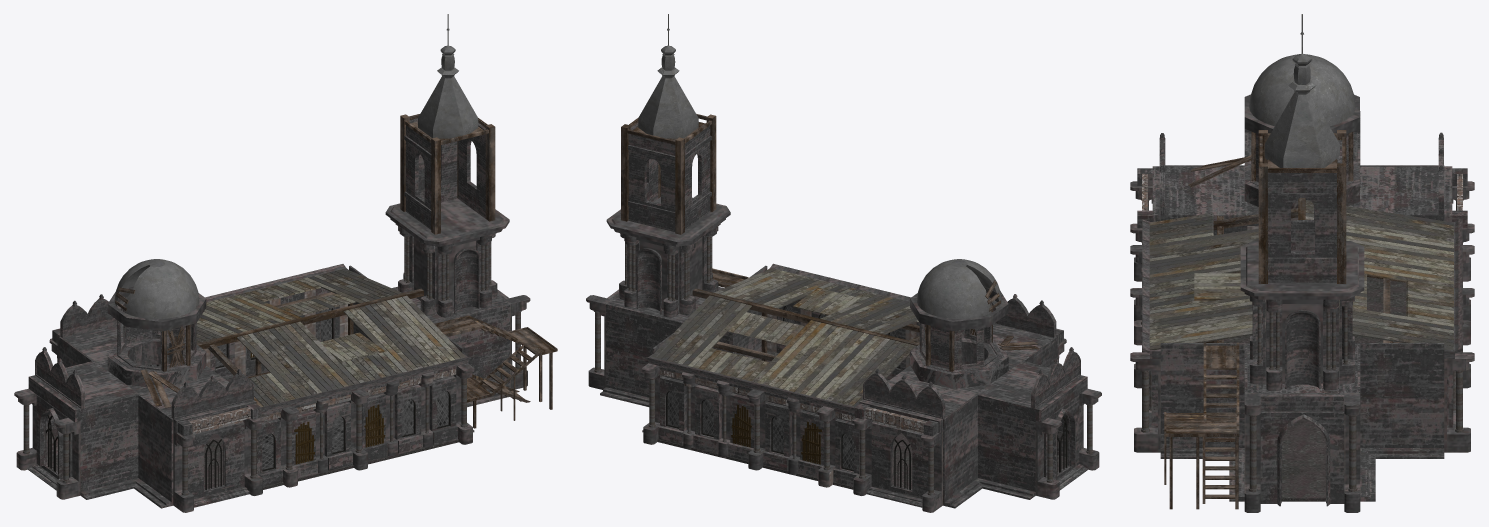
The model's file is church.fbx.
3 renders of one model, left to right at view 1: azimuth 30°, elevation 25°; view 2: azimuth 150°, elevation 25°; view 3: azimuth 270°, elevation 25°, orthographic. The views are drawn at different scales.
Parts seen in each view (by area): view 1: Cube.044, Cube.180, Cube.115, Cube.002, Cube.152, Cube.046, Sphere.004, Cube.136, Cylinder.048, Cylinder.030, Cube.121, Cube.131 (+14 smaller); view 2: Cube.044, Cube.180, Cube.115, Cube.002, Cube.152, Sphere.004, Cube.046, Cylinder.030, Cylinder.048, Cube.136, Cube.121, Cube.132 (+9 smaller); view 3: Cube.044, Cube.180, Cube.115, Cube.002, Plane, Cylinder.048, Cube.046, Sphere.004, Cube.161, Cube.121, Sphere.002, Cube.136 (+12 smaller).
Boxes of the visible parts, left/top/right/bottom form: Cube.044: left=28, top=265, right=511, bottom=508; Cube.180: left=170, top=268, right=465, bottom=407; Cube.115: left=14, top=289, right=530, bottom=512; Cube.002: left=404, top=118, right=485, bottom=229; Cube.152: left=35, top=294, right=253, bottom=419; Cube.046: left=385, top=198, right=509, bottom=312; Sphere.004: left=114, top=259, right=199, bottom=318; Cube.136: left=400, top=114, right=495, bottom=234; Cylinder.048: left=418, top=14, right=478, bottom=138; Cylinder.030: left=23, top=310, right=521, bottom=495; Cube.121: left=395, top=223, right=497, bottom=317; Cube.131: left=107, top=338, right=206, bottom=388; Cube.044: left=600, top=265, right=1088, bottom=508; Cube.180: left=651, top=268, right=918, bottom=406; Cube.115: left=586, top=295, right=1101, bottom=512; Cube.002: left=628, top=123, right=711, bottom=231; Cube.152: left=863, top=294, right=1080, bottom=418; Sphere.004: left=917, top=259, right=1001, bottom=318; Cube.046: left=606, top=197, right=730, bottom=312; Cylinder.030: left=593, top=310, right=1093, bottom=495; Cylinder.048: left=638, top=14, right=698, bottom=138; Cube.136: left=621, top=114, right=716, bottom=234; Cube.121: left=619, top=223, right=720, bottom=317; Cube.132: left=915, top=297, right=1003, bottom=372; Cube.044: left=1137, top=132, right=1467, bottom=506; Cube.180: left=1149, top=200, right=1453, bottom=349; Cube.115: left=1130, top=181, right=1474, bottom=512; Cube.002: left=1268, top=138, right=1342, bottom=282; Plane: left=1224, top=277, right=1406, bottom=501; Cylinder.048: left=1264, top=14, right=1339, bottom=167; Cube.046: left=1240, top=241, right=1364, bottom=383; Sphere.004: left=1249, top=54, right=1355, bottom=126; Cube.161: left=1166, top=345, right=1236, bottom=498; Cube.121: left=1250, top=296, right=1354, bottom=390; Sphere.002: left=1252, top=305, right=1352, bottom=389; Cube.136: left=1258, top=130, right=1346, bottom=283.
Bounding box in the file's own units: 3935 × 1982 × 2946.
33 materials, 33 textured.
